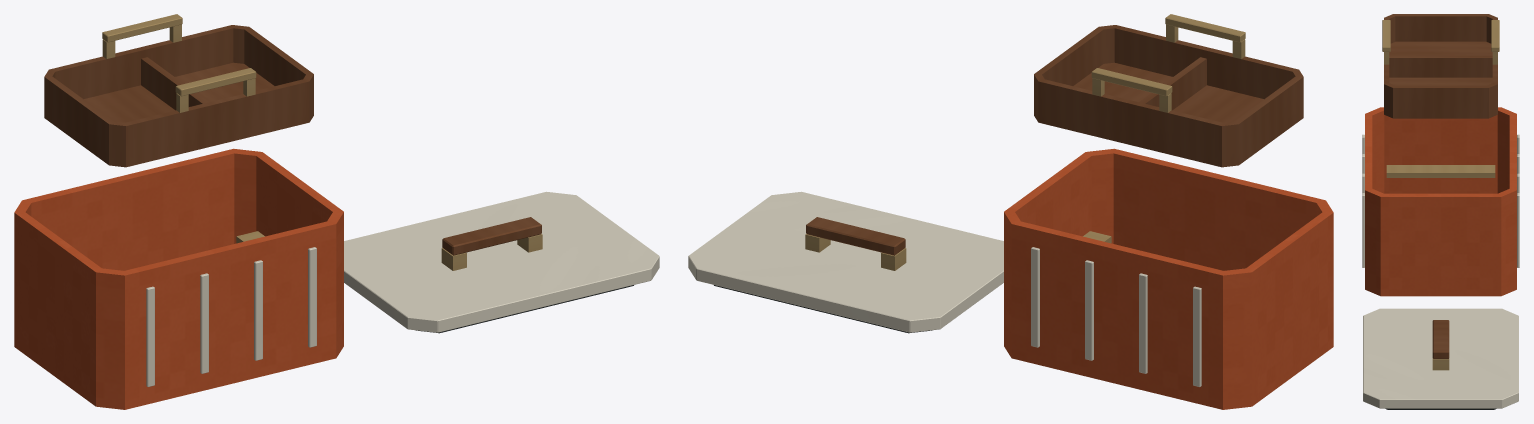
The model's file is AST-RTL-004__handling.glb.
3 views of the same model, side by side, from view 1: azimuth 30°, elevation 25°; view 2: azimuth 150°, elevation 25°; view 3: azimuth 270°, elevation 25° (orthographic). The views are drawn at different scales.
Parts seen in each view (by area): view 1: AST-RTL-004__fixed__retail_terracotta_enamel, AST-RTL-004__lid__ivory_enamel, AST-RTL-004__carrier__warm_walnut, AST-RTL-004__fixed__ivory_enamel, AST-RTL-004__carrier__champagne_metal, AST-RTL-004__lid__warm_walnut, AST-RTL-004__lid__champagne_metal; view 2: AST-RTL-004__fixed__retail_terracotta_enamel, AST-RTL-004__lid__ivory_enamel, AST-RTL-004__carrier__warm_walnut, AST-RTL-004__fixed__ivory_enamel, AST-RTL-004__carrier__champagne_metal, AST-RTL-004__lid__warm_walnut, AST-RTL-004__lid__champagne_metal; view 3: AST-RTL-004__fixed__retail_terracotta_enamel, AST-RTL-004__lid__ivory_enamel, AST-RTL-004__carrier__warm_walnut, AST-RTL-004__fixed__champagne_metal, AST-RTL-004__fixed__ivory_enamel, AST-RTL-004__carrier__champagne_metal, AST-RTL-004__lid__warm_walnut, AST-RTL-004__lid__dark_rubber, AST-RTL-004__lid__champagne_metal.
Part boxes in pixels (bbox=[...]): AST-RTL-004__fixed__retail_terracotta_enamel: bbox=[14, 148, 343, 409]; AST-RTL-004__lid__ivory_enamel: bbox=[344, 191, 659, 332]; AST-RTL-004__carrier__warm_walnut: bbox=[44, 25, 313, 167]; AST-RTL-004__fixed__ivory_enamel: bbox=[146, 247, 316, 386]; AST-RTL-004__carrier__champagne_metal: bbox=[102, 14, 256, 112]; AST-RTL-004__lid__warm_walnut: bbox=[442, 217, 541, 255]; AST-RTL-004__lid__champagne_metal: bbox=[441, 234, 542, 270]; AST-RTL-004__fixed__retail_terracotta_enamel: bbox=[1004, 148, 1333, 409]; AST-RTL-004__lid__ivory_enamel: bbox=[688, 191, 1003, 332]; AST-RTL-004__carrier__warm_walnut: bbox=[1034, 25, 1303, 167]; AST-RTL-004__fixed__ivory_enamel: bbox=[1031, 247, 1201, 386]; AST-RTL-004__carrier__champagne_metal: bbox=[1091, 14, 1245, 112]; AST-RTL-004__lid__warm_walnut: bbox=[806, 217, 905, 255]; AST-RTL-004__lid__champagne_metal: bbox=[805, 234, 906, 270]; AST-RTL-004__fixed__retail_terracotta_enamel: bbox=[1365, 107, 1516, 296]; AST-RTL-004__lid__ivory_enamel: bbox=[1363, 308, 1518, 408]; AST-RTL-004__carrier__warm_walnut: bbox=[1384, 14, 1497, 118]; AST-RTL-004__fixed__champagne_metal: bbox=[1386, 165, 1495, 177]; AST-RTL-004__fixed__ivory_enamel: bbox=[1362, 134, 1519, 267]; AST-RTL-004__carrier__champagne_metal: bbox=[1382, 20, 1499, 64]; AST-RTL-004__lid__warm_walnut: bbox=[1432, 320, 1449, 358]; AST-RTL-004__lid__dark_rubber: bbox=[1385, 408, 1496, 409]; AST-RTL-004__lid__champagne_metal: bbox=[1432, 358, 1449, 370].
Bounding box in the file's own units: 1.04 × 0.534 × 0.342.
5 materials, 5 textured.
